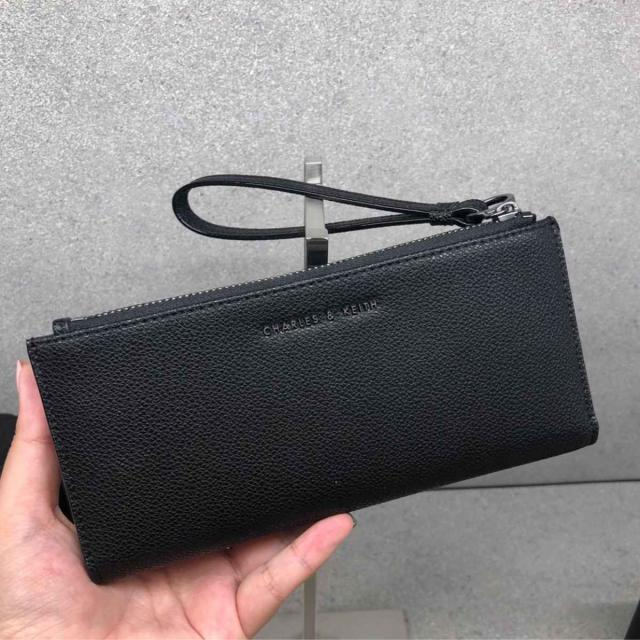Handbag: (23, 211, 600, 587)
